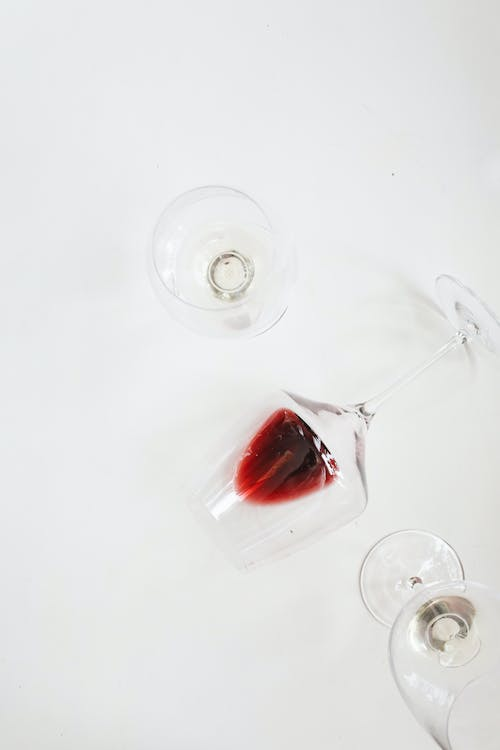alcohol: (187, 271, 500, 575), (356, 526, 500, 750), (145, 183, 296, 346)
